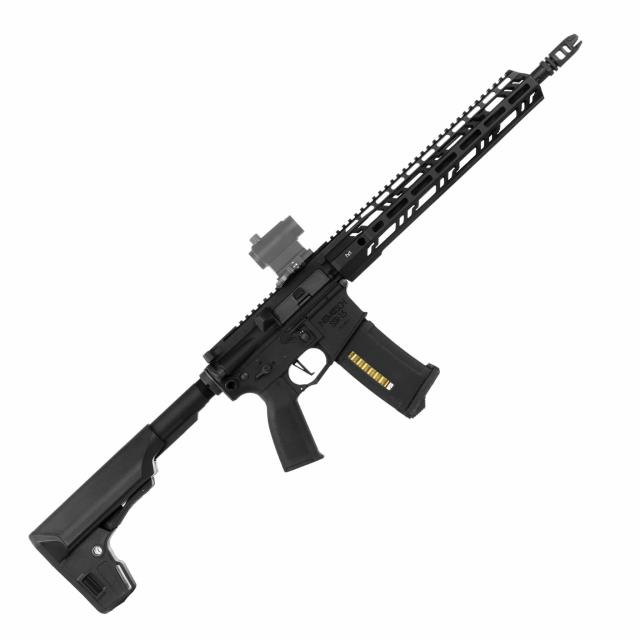Rifle: (29, 35, 584, 616)
